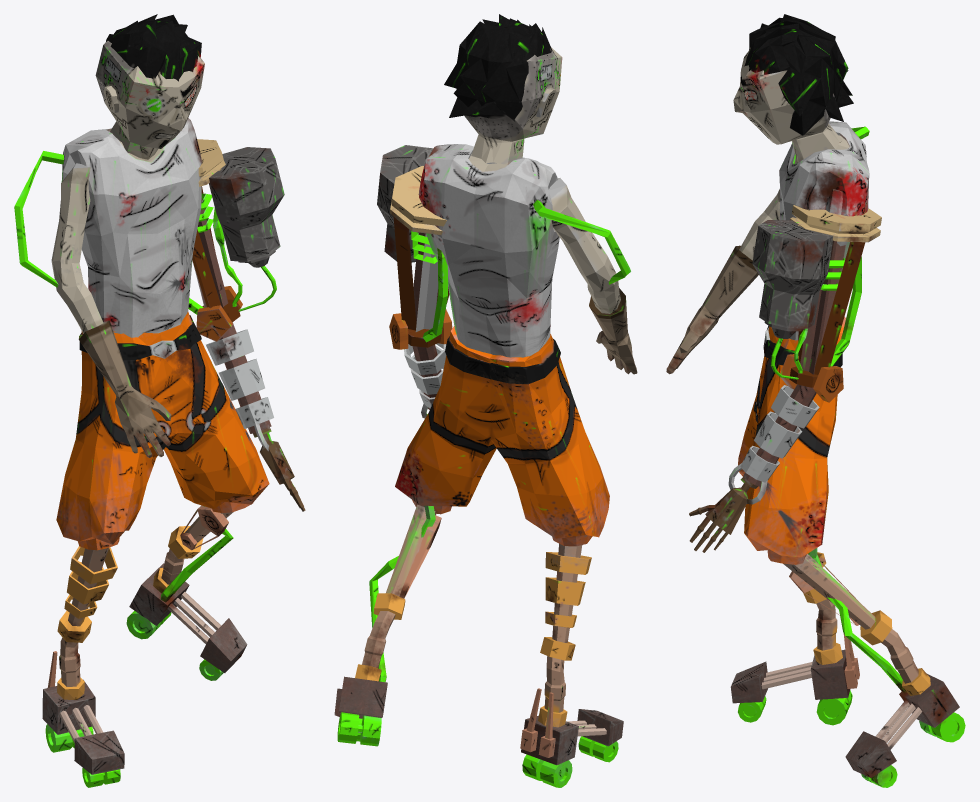
The model's file is CyborgFINALAnimation_000171.obj.
3 renders of one model, left to right at view 1: azimuth 30°, elevation 25°; view 2: azimuth 150°, elevation 25°; view 3: azimuth 270°, elevation 25°, orthographic.
Visible parts, largest first — view 1: CyborgMesh_Cube.002; view 2: CyborgMesh_Cube.002; view 3: CyborgMesh_Cube.002.
Boxes of the visible parts, <box> form: CyborgMesh_Cube.002: <box>14,14,305,787</box>; CyborgMesh_Cube.002: <box>334,14,637,787</box>; CyborgMesh_Cube.002: <box>666,14,965,787</box>.
Bounding box in the file's own units: 3.57 × 9.67 × 3.59.
